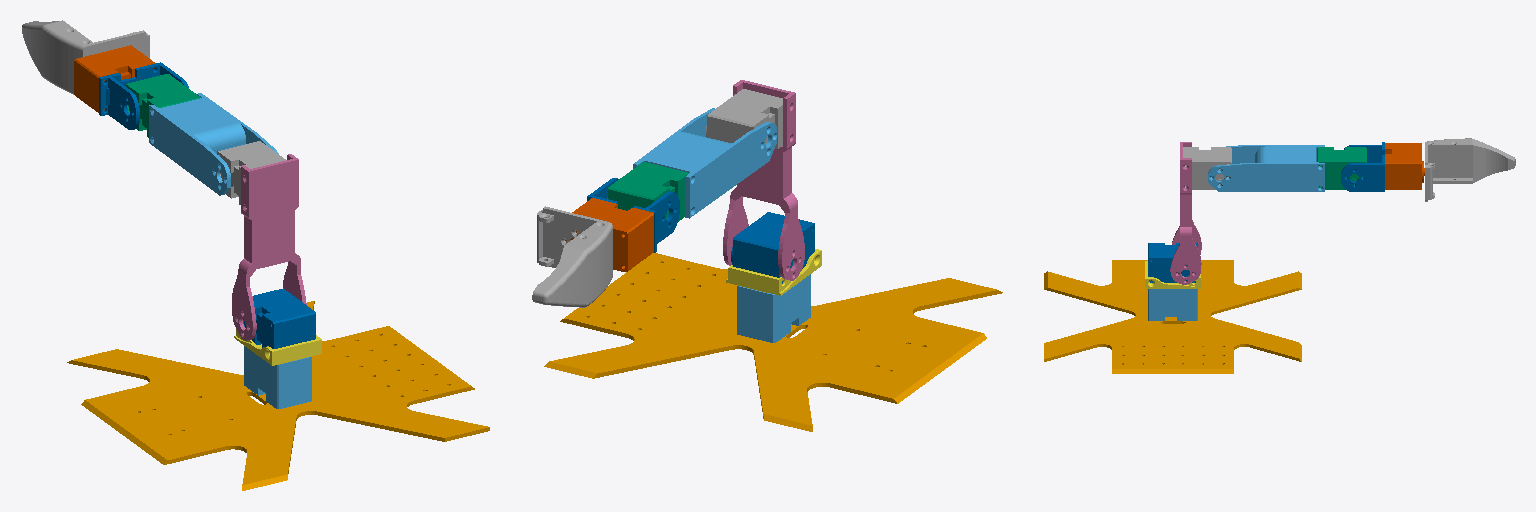
The robot description file, URDF, robot "jawpixarm":
<robot name="jawpixarm" xmlns:xacro="http://www.ros.org/wiki/xacro">
 
 
 <!-- ============== MESHES =============== -->
  <!-- Base -->
  <link name="base_link">
    <visual>
      <origin xyz="-1.05 1.5 0" rpy="1.5708 0 0"/>
      <geometry>
        <mesh filename="package://jawarm_description/meshes/base.STL" scale="0.01 0.01 0.01"/>
      </geometry>
    </visual>
  </link>

  <!-- Servo1 -->
  <link name="servo1_link">
    <visual>
      <origin xyz="0.05 0.52 0.03" rpy="1.5708 0 0"/>
      <geometry>
        <mesh filename="package://jawarm_description/meshes/servo.STL" scale="0.01 0.01 0.01"/>
      </geometry>
    </visual>
  </link>

  <!-- Phantom link at center of servo1 shaft -->
  <link name="p1_link"/>

  <!-- Base-to-Shoulder -->
  <link name="baseToshoulder_link">
    <visual>
      <origin xyz="-0.2 -0.388 -0.2" rpy="0 0 0"/>
      <geometry>
        <mesh filename="package://jawarm_description/meshes/base_to_shoulder.STL" scale="0.01 0.01 0.01"/>
      </geometry>
    </visual>
  </link>

  <!-- Servo2 --> 
  <link name="servo2_link"> 
    <visual> 
      <origin xyz="-0.17 0.109 0.3" rpy="1.5708 1.5708 0"/> 
      <geometry> 
        <mesh filename="package://jawarm_description/meshes/servo.STL" scale="0.01 0.01 0.01"/> 
      </geometry> 
    </visual> 
  </link>

  <!-- Phantom link at center of servo2 shaft -->
  <link name="p2_link"/>

  <!-- Shoulder --> 
  <link name="shoulder_link"> 
    <visual> 
    <origin xyz="0.11 0.157 0.03" rpy="0 1.5708 3.1415"/> 
      <geometry> 
        <mesh filename="package://jawarm_description/meshes/shoulder.STL" scale="0.01 0.01 0.01"/> 
      </geometry> 
    </visual> 
  </link>

  <!-- Servo3 --> 
  <link name="servo3_link"> 
    <visual> 
      <origin xyz="-1.139 0.431 -0.36" rpy="-1.5708 3.1415 3.1415"/> 
      <geometry> 
        <mesh filename="package://jawarm_description/meshes/servo.STL" scale="0.01 0.01 0.01"/> 
      </geometry> 
    </visual> 
  </link>

  <!-- Phantom link at center of servo3 shaft -->
  <link name="p3_link"/>

  <!-- Elbow --> 
  <link name="elbow_link"> 
    <visual> 
    <origin xyz="0.113 0.148 0.03" rpy="0 1.5708 3.1415"/> 
      <geometry> 
        <mesh filename="package://jawarm_description/meshes/elbow.STL" scale="0.01 0.01 0.01"/> 
      </geometry> 
    </visual> 
  </link>

  <!-- Servo4 --> 
  <link name="servo4_link"> 
    <visual> 
      <origin xyz="-1.38 -0.139 -0.36" rpy="1.5708 0 1.5708"/> 
      <geometry> 
        <mesh filename="package://jawarm_description/meshes/servo.STL" scale="0.01 0.01 0.01"/> 
      </geometry> 
    </visual> 
  </link>

  <!-- Phantom link at center of servo4 shaft -->
  <link name="p4_link"/>

  <!-- Wrist --> 
  <link name="wrist_link"> 
    <visual> 
    <origin xyz="0.1429 -0.2877 0.03" rpy="1.5708 1.5708 3.1415"/> 
      <geometry> 
        <mesh filename="package://jawarm_description/meshes/wrist.STL" scale="0.01 0.01 0.01"/> 
      </geometry> 
    </visual> 
  </link>

  <!-- Servo5 --> 
  <link name="servo5_link"> 
    <visual> 
      <origin xyz="0 -0.01 0" rpy="3.1415 0 0"/> 
      <geometry> 
        <mesh filename="package://jawarm_description/meshes/servo.STL" scale="0.01 0.01 0.01"/> 
      </geometry> 
    </visual> 
  </link>

  <!-- Phantom link at center of servo4 shaft -->
  <link name="p5_link"/>

  <!-- static grip --> 
  <link name="staticgrip_link"> 
    <visual> 
    <origin xyz="0.2 0.335 0" rpy="1.5708 0 4.7123"/> 
      <geometry> 
        <mesh filename="package://jawarm_description/meshes/static_gripper.STL" scale="0.01 0.01 0.01"/> 
      </geometry> 
    </visual> 
  </link>



  <!-- ============== JOINTS =============== -->

  <!-- Base -> Servo1 -->
  <joint name="servo1_base" type="fixed">
    <origin xyz="0 0 0" rpy="0 0 0"/>
    <parent link="base_link"/>
    <child link="servo1_link"/>
  </joint>

  <!-- Phantom1 link shaft center -->
  <joint name="p1_to_servo1" type="fixed">
    <origin xyz="0.19 0.41 0.4" rpy="0 0 0"/>
    <parent link="servo1_link"/>
    <child link="p1_link"/>
  </joint>

  <!-- Phantom1 shaft center -> Base-to-shoulder adapter -->
  <joint name="baseToshoulder_to_p1" type="revolute">
    <origin xyz="0 0 0" rpy="0 0 0"/>
    <parent link="p1_link"/>
    <child link="baseToshoulder_link"/>
    <axis xyz="0 0 1"/>
    <limit effort="10" velocity="1.0" lower="-1.57" upper="1.57"/>
  </joint>

  <!-- Servo2 -->
  <joint name="servo2_to_baseToshoulder" type="fixed">
    <origin xyz="0 0 0" rpy="0 0 0"/>
    <parent link="baseToshoulder_link"/>
    <child link="servo2_link"/>
  </joint>

  <!-- Servo2 -> Phantom2 -->
  <joint name="p2_to_servo2" type="fixed">
    <origin xyz="0.19 -0.001 0.155" rpy="0 1.5708 0"/>
    <parent link="servo2_link"/>
    <child link="p2_link"/>
  </joint>

  <!-- Phantom shaft center -> shoulder -->
  <joint name="shoulder_to_p2" type="revolute">
    <origin xyz="0 0 0" rpy="0 0 0"/>
    <parent link="p2_link"/>
    <child link="shoulder_link"/>
    <axis xyz="0 0 1"/>
    <limit effort="10" velocity="1.0" lower="-1.57" upper="1.57"/>
  </joint>

  <!-- Servo3 -->
  <joint name="servo3_to_shoulder" type="fixed">
    <origin xyz="0 0 0" rpy="0 0 0"/>
    <parent link="shoulder_link"/>
    <child link="servo3_link"/>
  </joint>

  <!-- Servo3 -> Phantom3 -->
  <joint name="p3_to_servo3" type="fixed">
    <origin xyz="-1.0 0.32 0" rpy="0 0 0"/>
    <parent link="servo3_link"/>
    <child link="p3_link"/>
  </joint>

  <!-- Phantom shaft center -> elbow -->
  <joint name="elbow_to_p3" type="revolute">
    <origin xyz="0 0 0" rpy="0 0 -1.5708"/>
    <parent link="p3_link"/>
    <child link="elbow_link"/>
    <axis xyz="0 0 1"/>
    <limit effort="10" velocity="1.0" lower="-1.57" upper="1.57"/>
  </joint>

  <!-- Servo4 -->
  <joint name="servo4_to_elbow" type="fixed">
    <origin xyz="0 0 0" rpy="0 0 0"/>
    <parent link="elbow_link"/>
    <child link="servo4_link"/>
  </joint>

  <!-- Servo4 -> Phantom4 -->
  <joint name="p4_to_servo4" type="fixed">
    <origin xyz="-1.268 0.005 0" rpy="0 0 0"/>
    <parent link="servo4_link"/>
    <child link="p4_link"/>
  </joint>

  <!-- Phantom shaft center -> wrist -->
  <joint name="wrist_to_p4" type="revolute">
    <origin xyz="0 0 0" rpy="0 0 -1.5708"/>
    <parent link="p4_link"/>
    <child link="wrist_link"/>
    <axis xyz="0 0 1"/>
    <limit effort="10" velocity="1.0" lower="-1.57" upper="1.57"/>
  </joint>

  <!-- Servo5 -->
  <joint name="servo5_to_wrist" type="fixed">
    <origin xyz="-0.141 -0.28 0" rpy="0 0 0"/>
    <parent link="wrist_link"/>
    <child link="servo5_link"/>
  </joint>

  <!-- Servo5 -> Phantom5 -->
  <joint name="p5_to_servo5" type="fixed">
    <origin xyz="0 0 0" rpy="0 1.5708 0"/>
    <parent link="servo5_link"/>
    <child link="p5_link"/>
  </joint>

  <!-- Phantom shaft center -> wrist -->
  <joint name="staticgrip_to_p5" type="revolute">
    <origin xyz="0.115 -0.38 0.139" rpy="1.5708 1.5708 0"/>
    <parent link="p5_link"/>
    <child link="staticgrip_link"/>
    <axis xyz="0 0 1"/>
    <limit effort="10" velocity="1.0" lower="-1.57" upper="1.57"/>
  </joint>
</robot>

--- Render facts (derived) ---
3 views of the same robot in one strip: view 1: azimuth 30°, elevation 25°; view 2: azimuth 150°, elevation 25°; view 3: azimuth 270°, elevation 25° (orthographic).
Model jawpixarm with 16 links and 15 joints (5 revolute, 10 fixed), rooted at base_link, posed all joints at 0.
Visible links, largest first — view 1: base_link, shoulder_link, elbow_link, staticgrip_link, servo2_link, servo1_link, servo5_link, wrist_link, servo4_link, servo3_link, baseToshoulder_link; view 2: base_link, staticgrip_link, elbow_link, shoulder_link, servo1_link, servo5_link, servo2_link, servo3_link, servo4_link, baseToshoulder_link, wrist_link; view 3: base_link, elbow_link, staticgrip_link, shoulder_link, servo5_link, servo1_link, wrist_link, servo3_link, servo4_link, servo2_link.
Link boxes in pixels (bbox=[...]): base_link: bbox=[67, 301, 489, 490]; shoulder_link: bbox=[232, 154, 306, 340]; elbow_link: bbox=[149, 93, 278, 195]; staticgrip_link: bbox=[22, 20, 149, 94]; servo2_link: bbox=[243, 288, 315, 348]; servo1_link: bbox=[244, 346, 311, 408]; servo5_link: bbox=[74, 45, 155, 112]; wrist_link: bbox=[99, 62, 188, 129]; servo4_link: bbox=[125, 74, 200, 137]; servo3_link: bbox=[217, 141, 285, 204]; baseToshoulder_link: bbox=[234, 329, 321, 365]; base_link: bbox=[544, 253, 1002, 431]; staticgrip_link: bbox=[532, 206, 612, 307]; elbow_link: bbox=[633, 108, 776, 218]; shoulder_link: bbox=[723, 80, 804, 280]; servo1_link: bbox=[737, 274, 810, 342]; servo5_link: bbox=[565, 198, 653, 271]; servo2_link: bbox=[731, 212, 814, 283]; servo3_link: bbox=[706, 89, 782, 148]; servo4_link: bbox=[607, 162, 688, 221]; baseToshoulder_link: bbox=[726, 249, 821, 295]; wrist_link: bbox=[587, 178, 679, 252]; base_link: bbox=[1044, 260, 1301, 373]; elbow_link: bbox=[1208, 145, 1324, 191]; staticgrip_link: bbox=[1425, 138, 1515, 201]; shoulder_link: bbox=[1170, 142, 1201, 284]; servo5_link: bbox=[1385, 143, 1424, 189]; servo1_link: bbox=[1148, 289, 1197, 320]; wrist_link: bbox=[1341, 142, 1384, 191]; servo3_link: bbox=[1183, 147, 1231, 189]; servo4_link: bbox=[1317, 147, 1366, 189]; servo2_link: bbox=[1148, 243, 1197, 282].
Bounding box of the posed robot: 2.48 × 4.43 × 1.75 m (x, y, z).
11 mesh visuals loaded from 7 distinct referenced files (7 binary STL).
